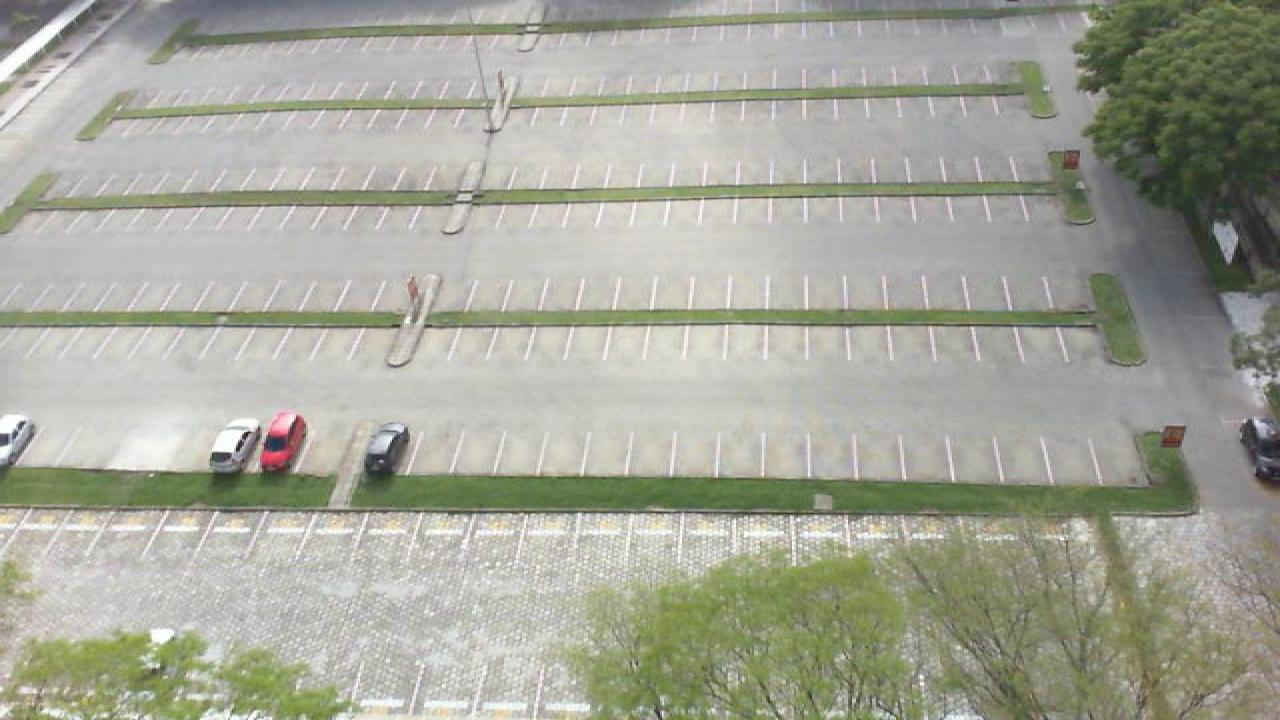Car: (256, 411, 310, 472), (206, 418, 264, 472), (360, 423, 414, 478), (1240, 415, 1280, 484), (0, 415, 36, 468)
